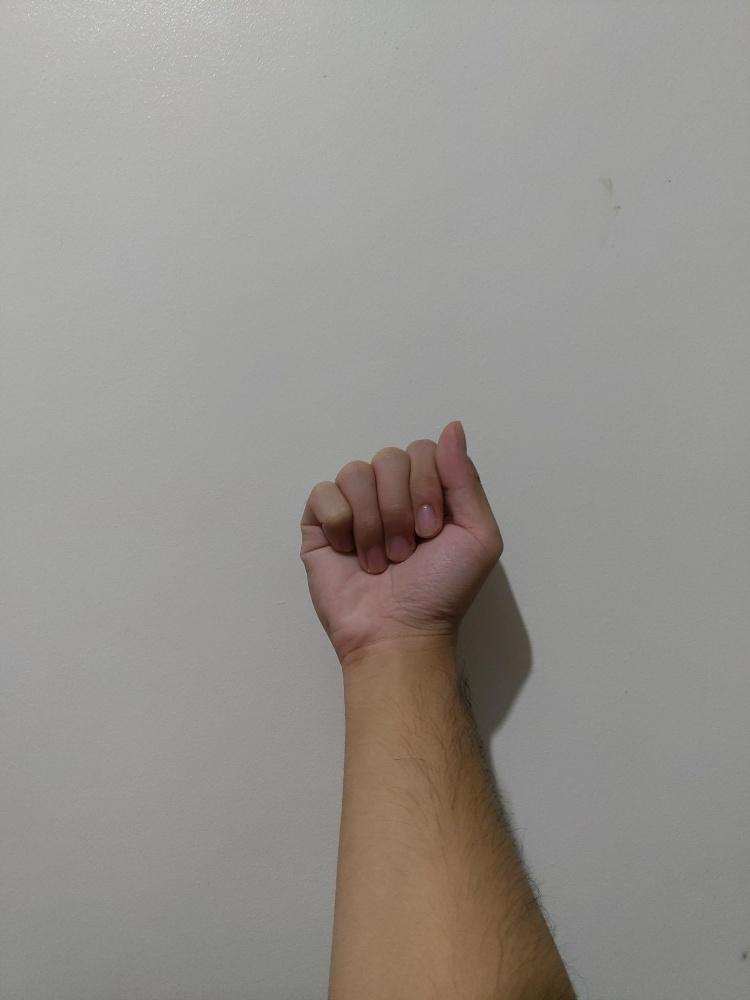a: (297, 417, 505, 659)
